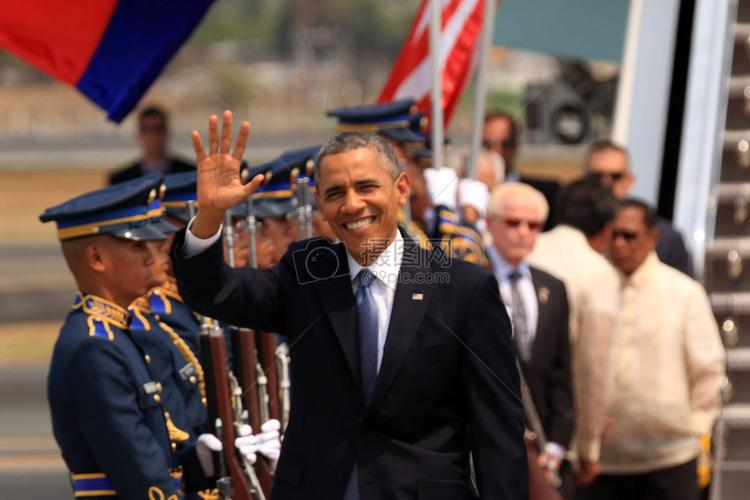no-phone: (188, 108, 266, 214)
